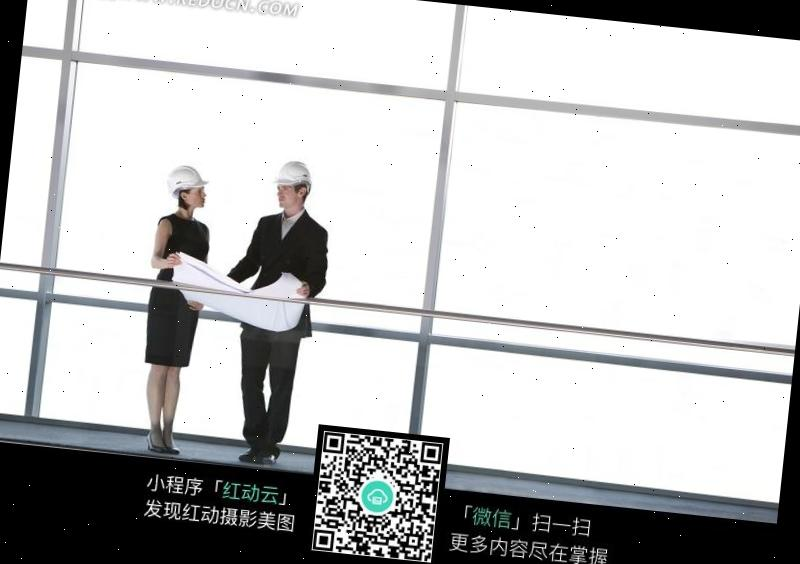helmet: (164, 162, 211, 194), (275, 158, 318, 190)
no_wear: (247, 213, 332, 296), (156, 215, 212, 264)
